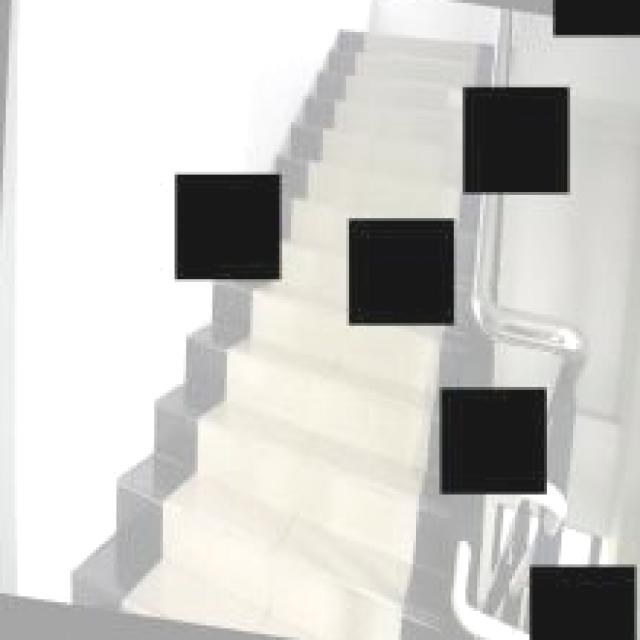upstair: (196, 344, 431, 640)
